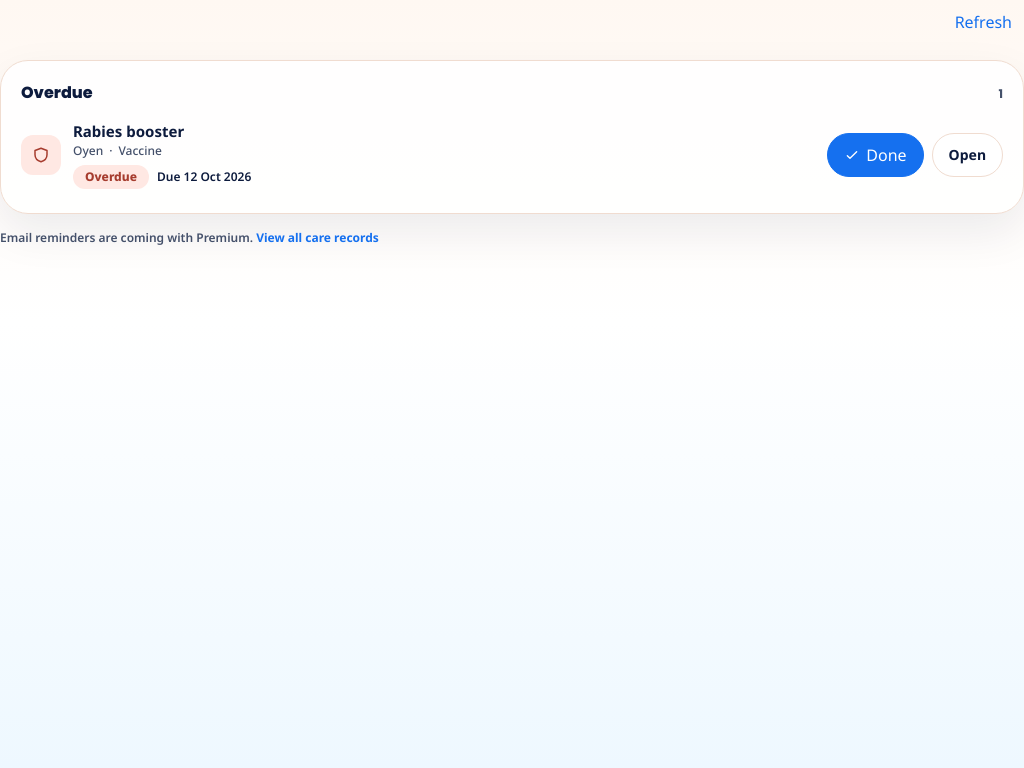
Test: A completion attempt outlives its dialog › forgets a held attempt only when the owner discards it, and says that doesn't cancel it
Click the button with aria-label "Mark Rabies booster for Oyen as done".
click(875, 155)  # box [827,133,924,177]
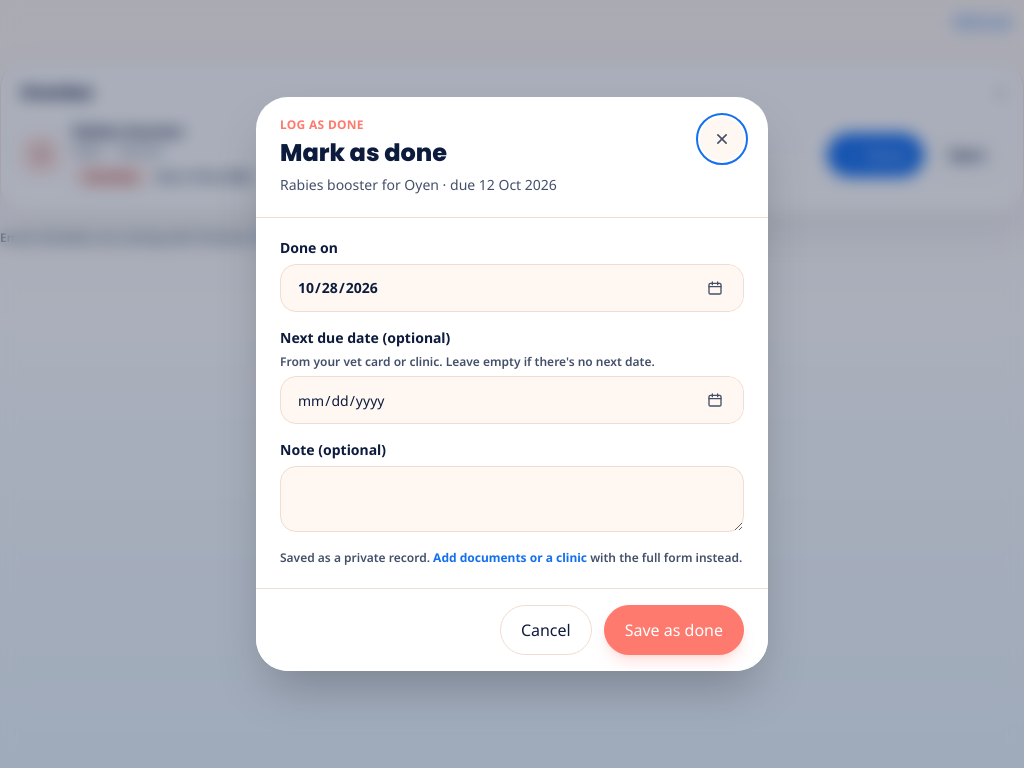
Result: the dialog "Mark as done" is shown
Click the button "Save as done".
click(674, 630)  # box [604,605,744,655]
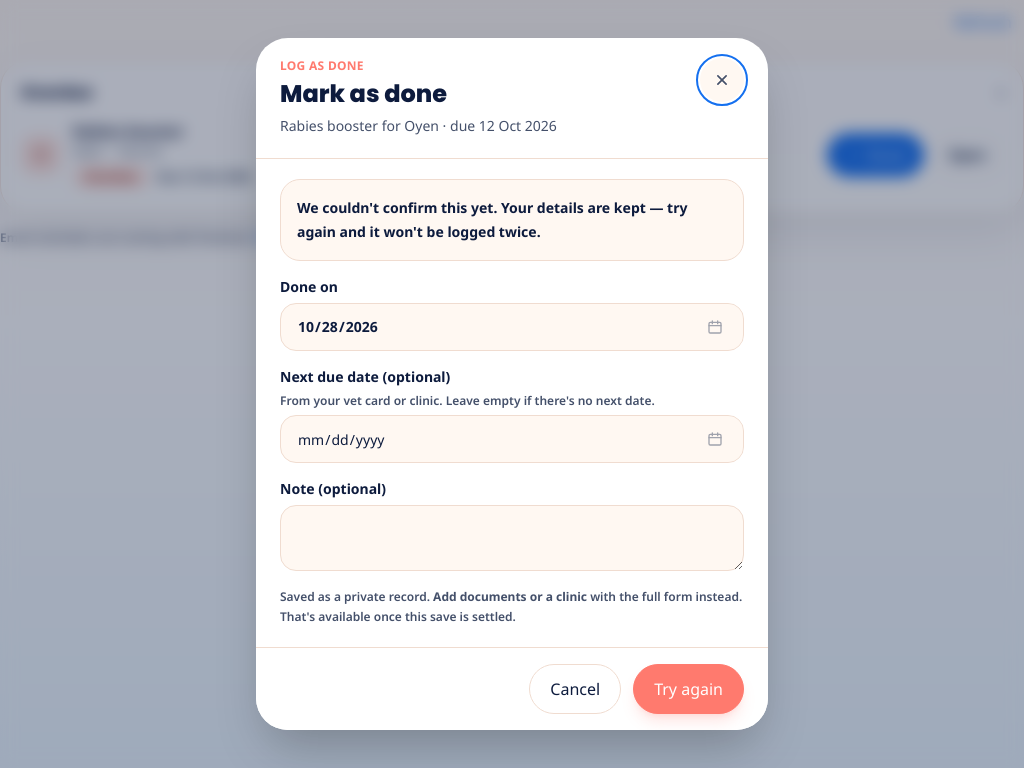
Result: the text "We couldn't confirm this yet" is shown at [297,198,687,241]
Click the button "Cancel".
click(575, 689)  # box [529,664,621,714]
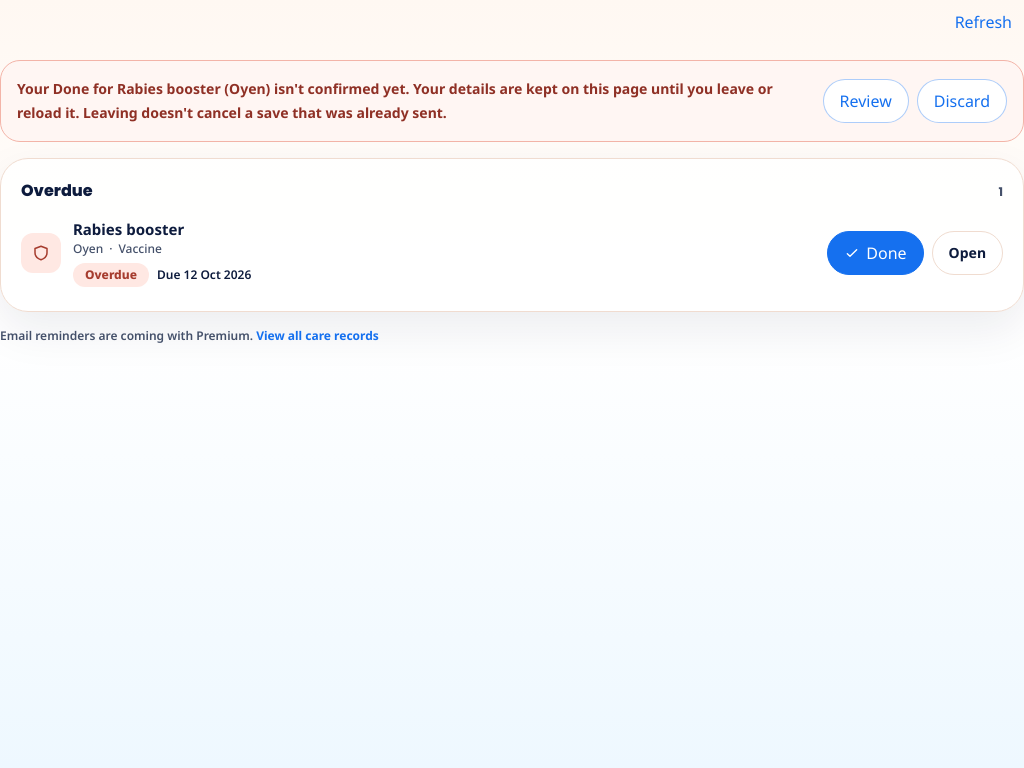
Result: the text "isn't confirmed yet" is shown at [17,79,773,122]
Click the button "Discard".
click(962, 101)  # box [917,79,1007,123]
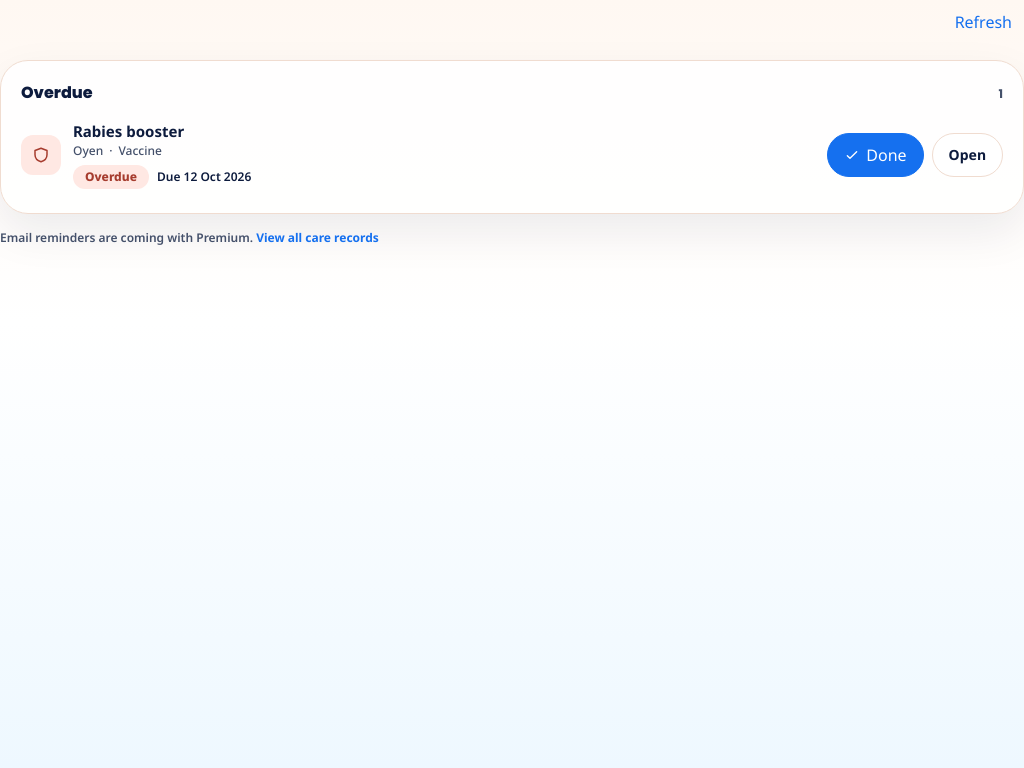
Result: the text "isn't confirmed yet" is gone
Click the button with aria-label "Mark Rabies booster for Oyen as done".
click(875, 155)  # box [827,133,924,177]
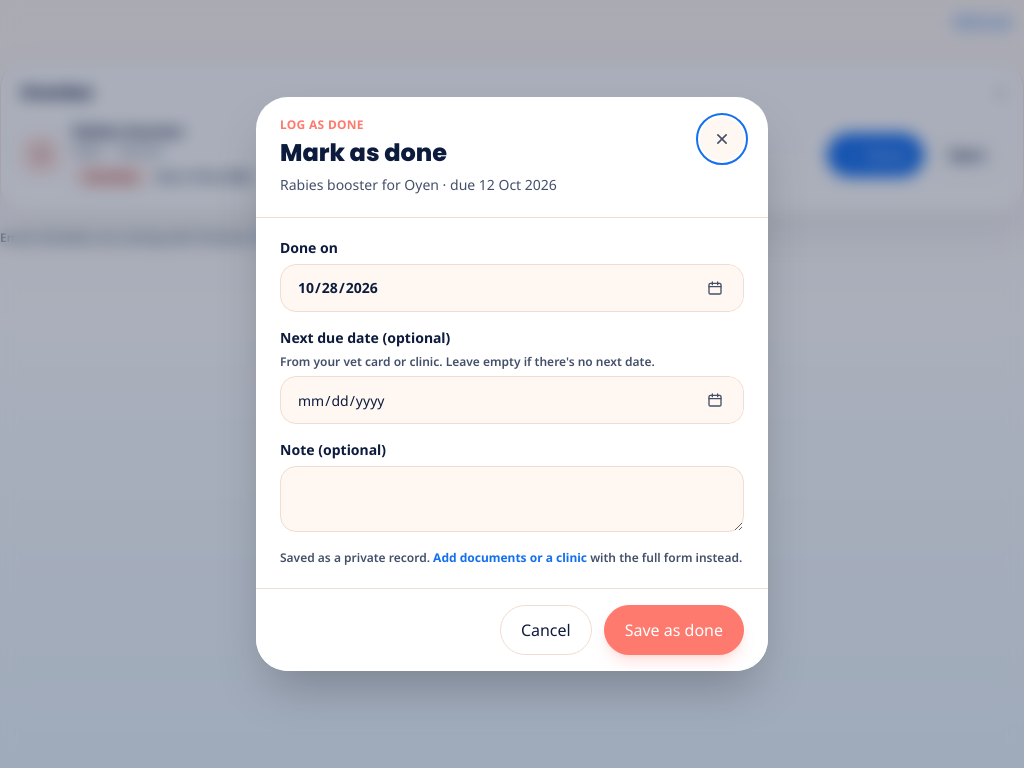
Result: the dialog "Mark as done" is shown
Click the button "Save as done".
click(674, 630)  # box [604,605,744,655]
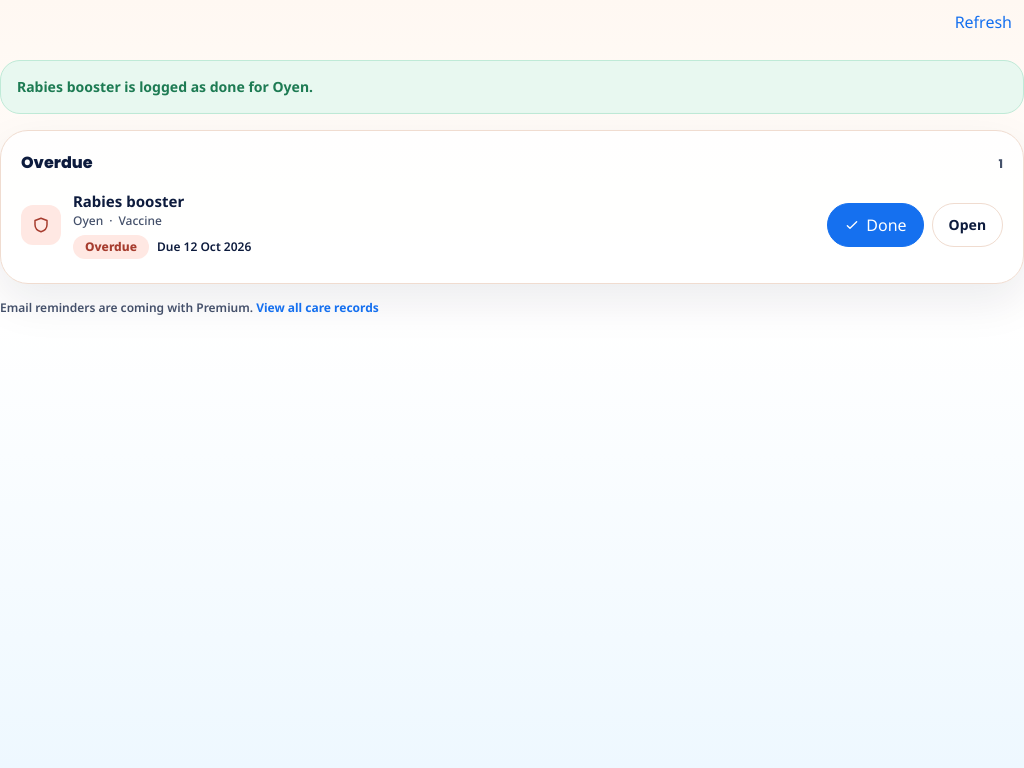
Result: the text "Rabies booster is logged as done for Oyen." is shown at [0,60,1023,114]
